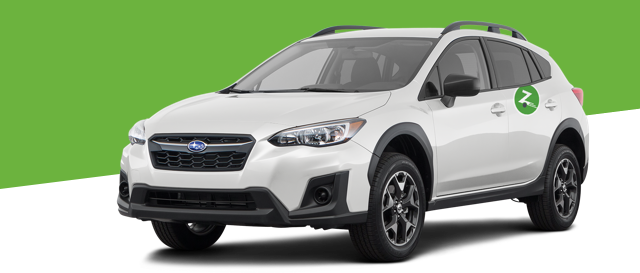car: (105, 19, 595, 272)
